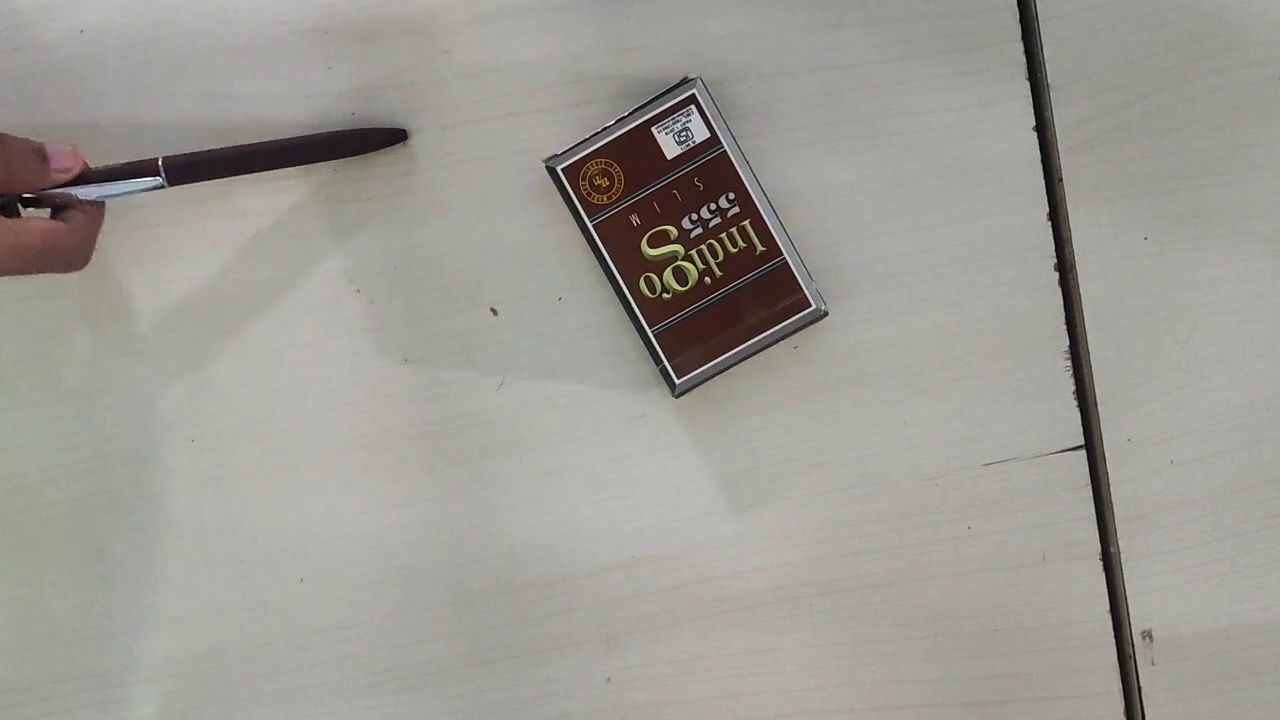BEX: (555, 86, 815, 379)
